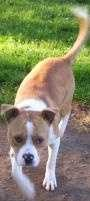dog: (0, 36, 90, 197)
